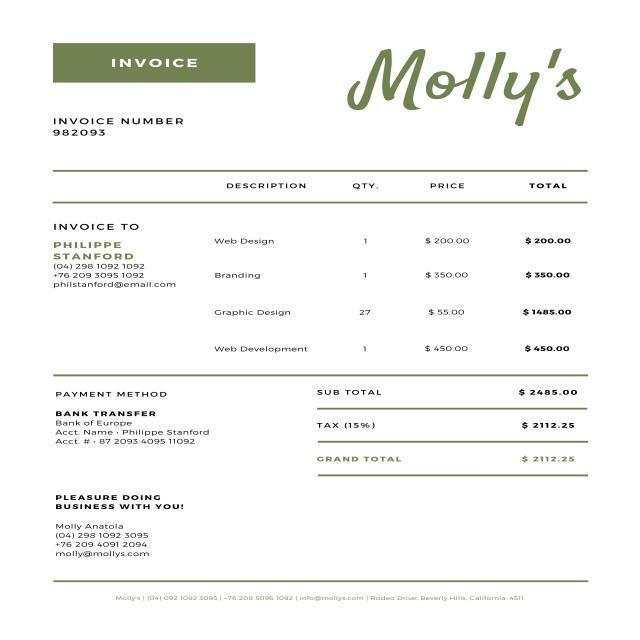paragraph: (311, 383, 597, 484), (351, 39, 590, 131), (50, 383, 210, 450), (53, 492, 193, 562), (107, 591, 531, 607), (39, 114, 199, 148), (106, 48, 200, 77)
table: (52, 168, 603, 371)
